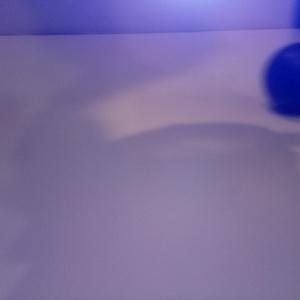dead_ball: (265, 41, 300, 116)
